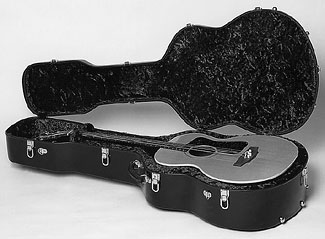guitar: (33, 127, 299, 185)
